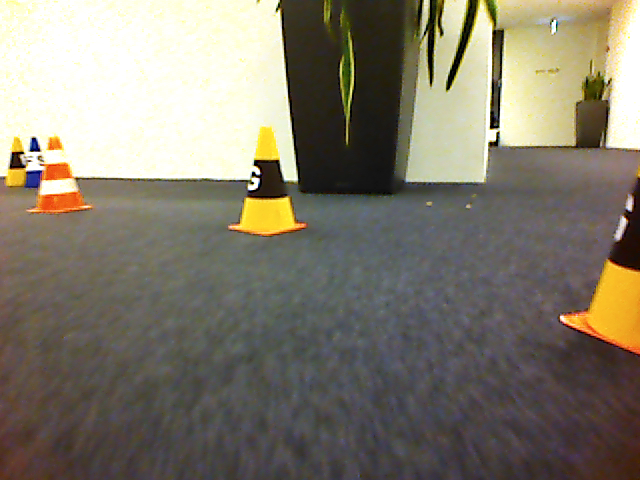orangeconesmall: (26, 135, 96, 213)
yellowcone: (227, 126, 309, 238)
